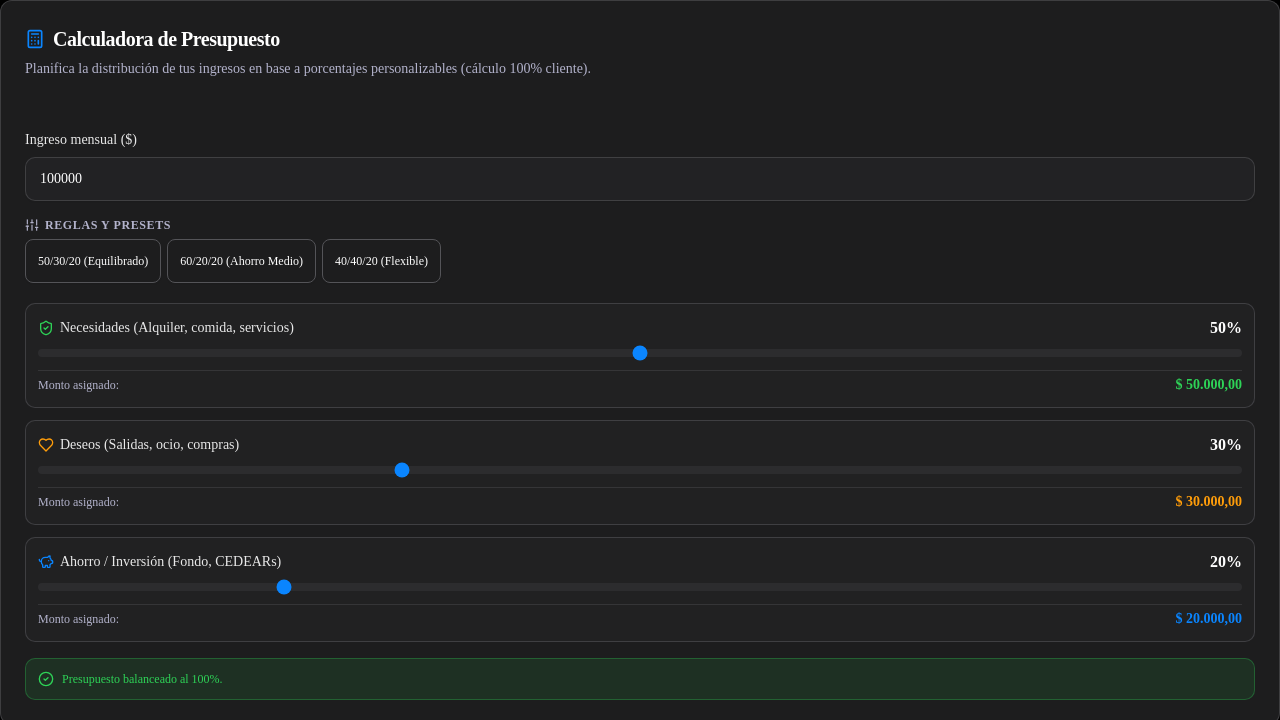
BudgetCalculator › updates monetary values immediately when slider changes
Set the slider labelled "Necesidades (Alquiler, comida, servicios)" to "60" at x=759, y=353, box 38,349 -> 1242,357
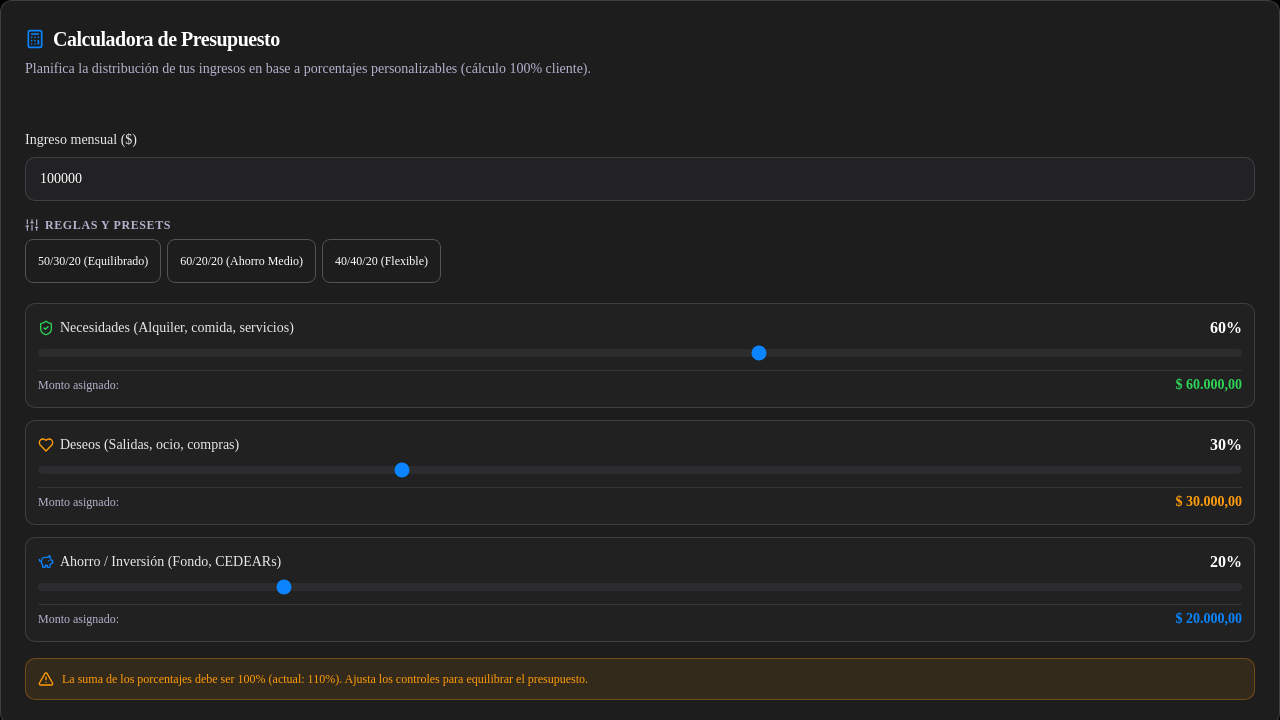
Result: the text "$ 60.000,00" is shown at 1176,375 -> 1242,395
